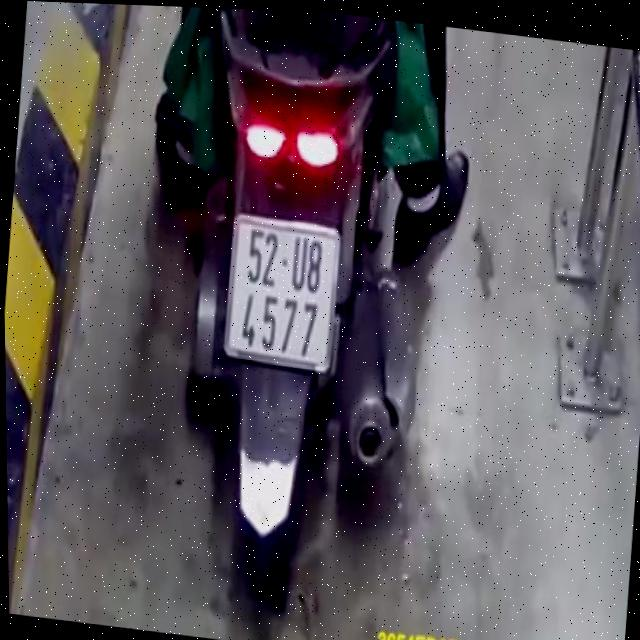motorcycle: (150, 6, 454, 626)
plate: (217, 210, 341, 372)
